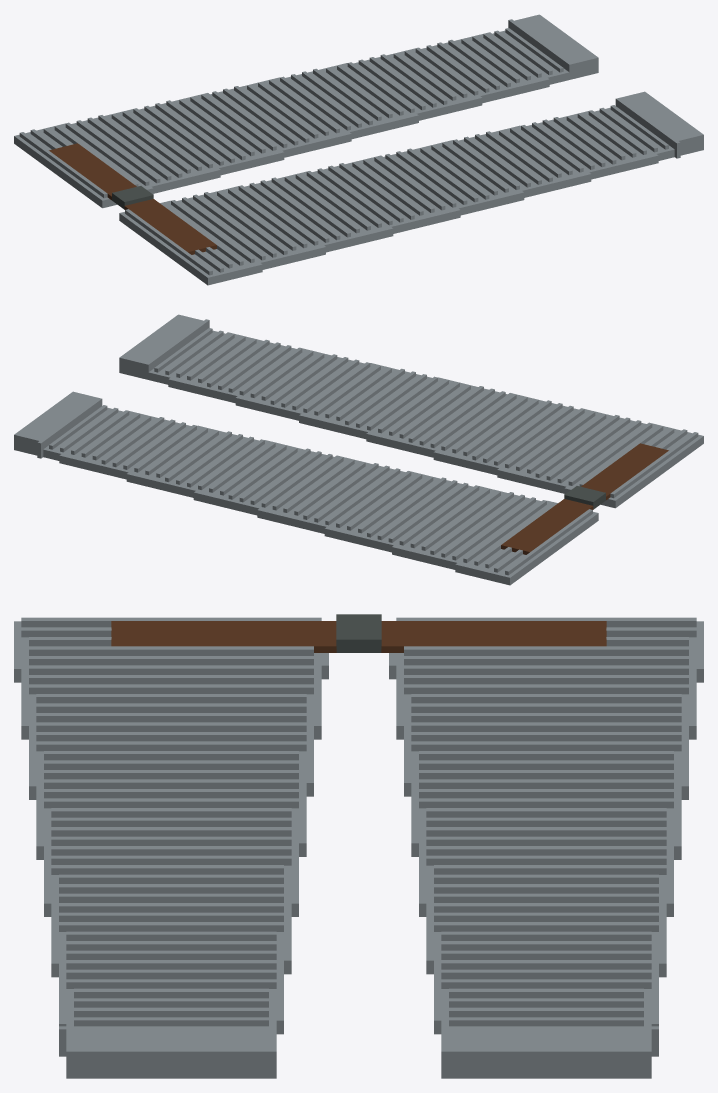
Rendered from chainmail_sleeves.glb.
3 views of the same model, one above another, from view 1: azimuth 30°, elevation 25°; view 2: azimuth 150°, elevation 25°; view 3: azimuth 270°, elevation 25° (orthographic). The views are drawn at different scales.
Parts seen in each view (by area): view 1: chainmail_sleeves:compound; view 2: chainmail_sleeves:compound; view 3: chainmail_sleeves:compound.
Boxes of the visible parts, <box> form: chainmail_sleeves:compound: <box>14,14,703,285</box>; chainmail_sleeves:compound: <box>14,314,703,585</box>; chainmail_sleeves:compound: <box>14,614,703,1078</box>.
Bounding box in the file's own units: 0.56 × 0.016 × 0.368.
